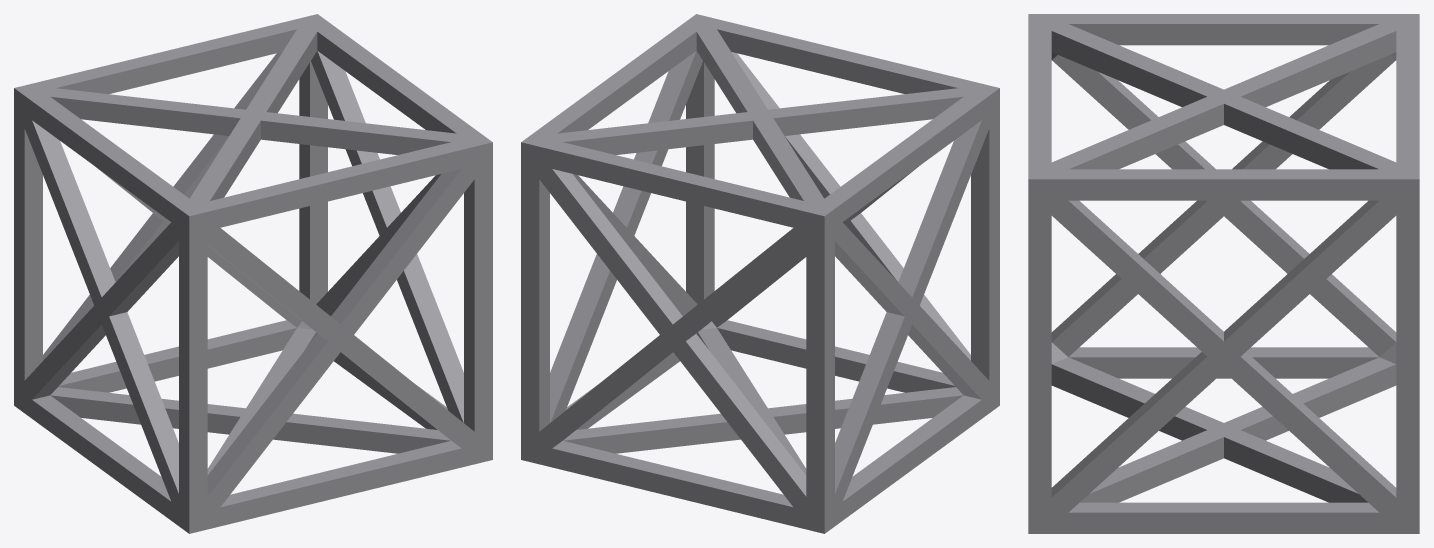
The model's file is model_frame_alternative.gltf.
3 views of the same model, side by side, from view 1: azimuth 30°, elevation 25°; view 2: azimuth 150°, elevation 25°; view 3: azimuth 270°, elevation 25° (orthographic). The views are drawn at different scales.
Parts seen in each view (by area): view 1: model_frame_alternative; view 2: model_frame_alternative; view 3: model_frame_alternative.
Part boxes in pixels (x1,y1,x2,y2): model_frame_alternative: (14, 14, 492, 533); model_frame_alternative: (521, 14, 999, 533); model_frame_alternative: (1028, 14, 1419, 533).
Bounding box in the file's own units: 1 × 1 × 1.
Materials: 1 (1 with a texture image).
